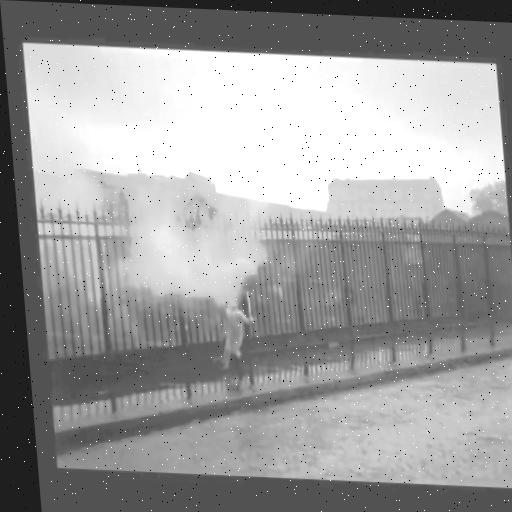balloon: (235, 260, 257, 289)
